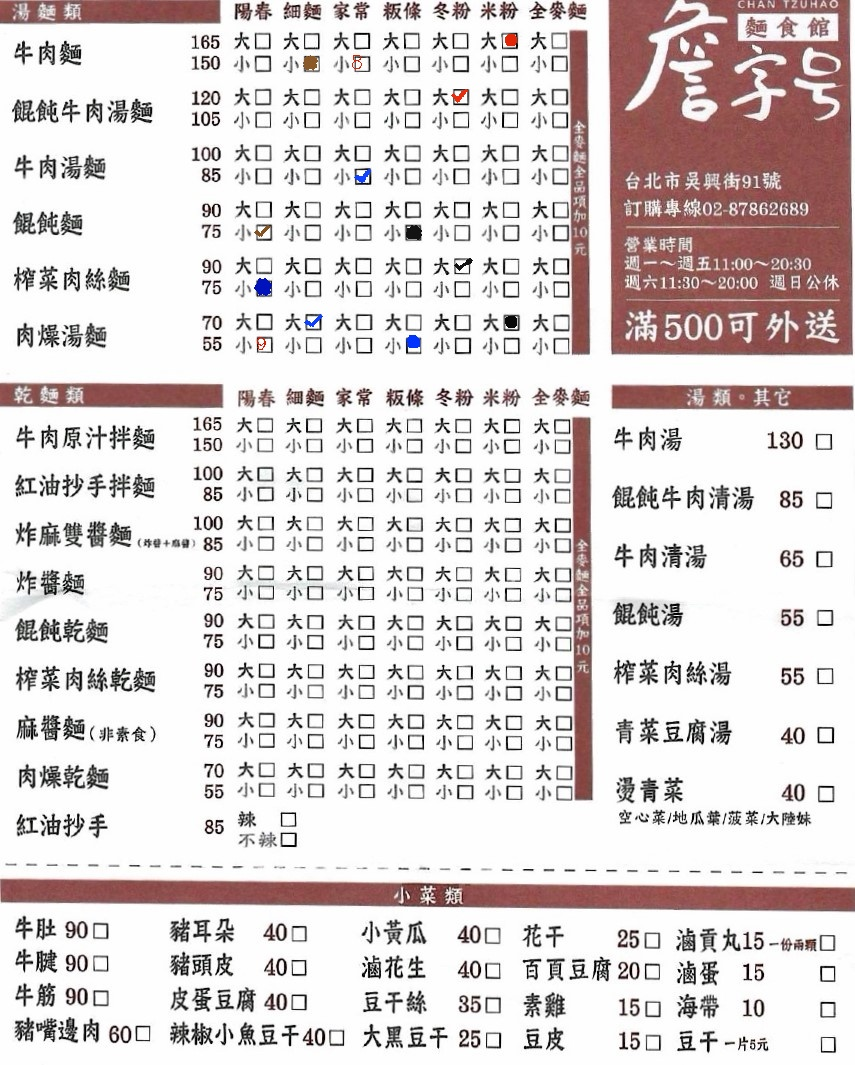marked_circle: (405, 335, 423, 352), (502, 313, 520, 330), (254, 279, 272, 296), (404, 224, 422, 241), (303, 55, 319, 70), (502, 33, 518, 48)
marked_number_8: (353, 55, 369, 72)
marked_number_9: (255, 336, 273, 353)
marked_tick: (253, 223, 271, 240), (354, 167, 372, 184), (304, 313, 322, 330), (453, 256, 471, 273), (452, 88, 467, 103)
